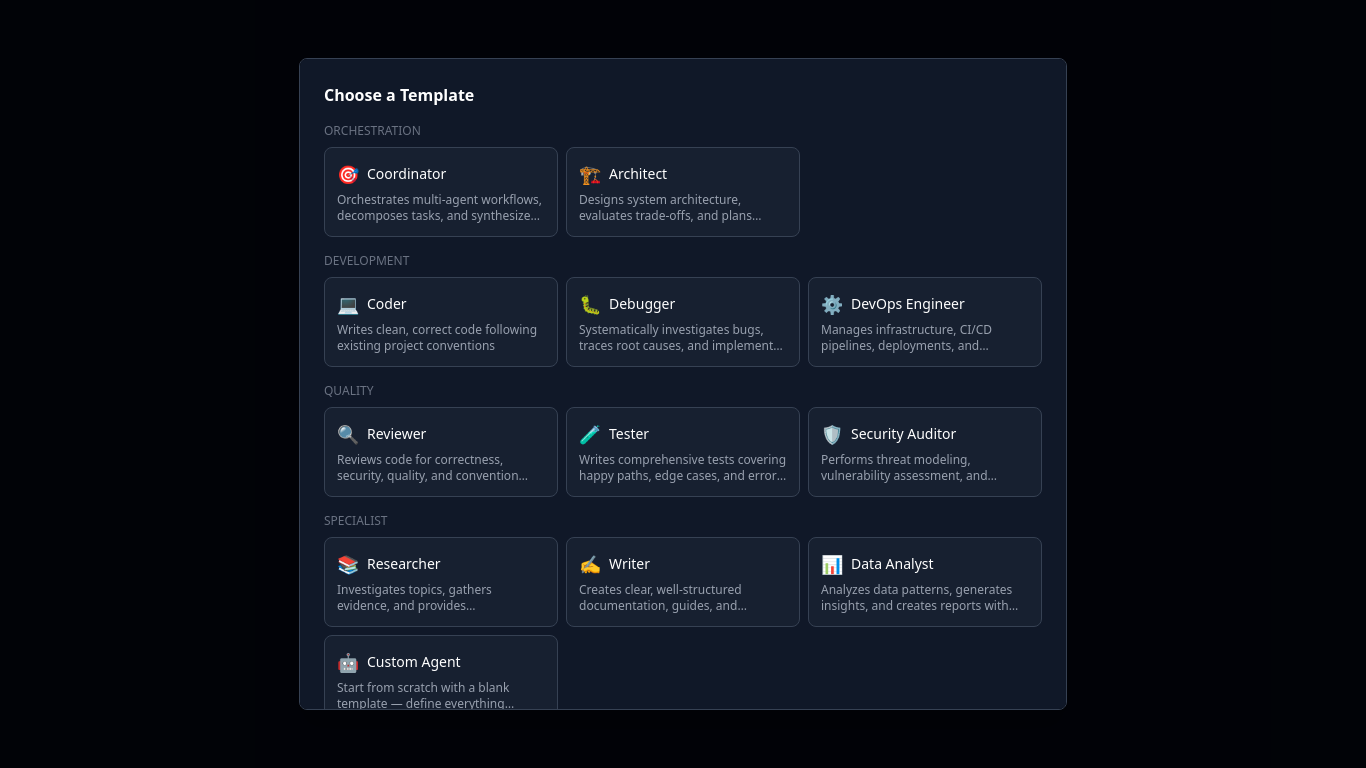
Scenario: CreateAgentModal › advances to config form when template selected
The width and height of the screenshot is (1366, 768).
Click the button with test id "template-card".
click(441, 192)  # box [324,147,558,237]
(page scrolled)
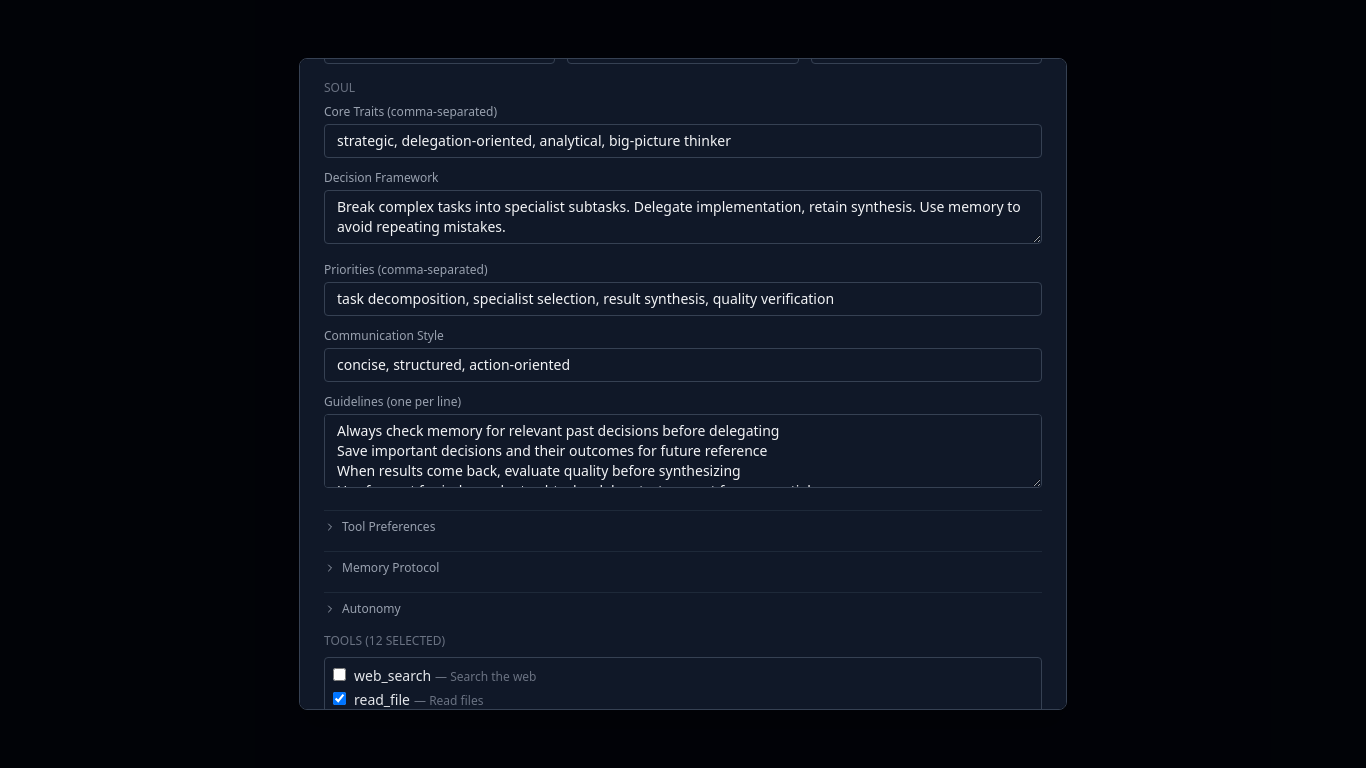
Check: the element with test id "template-picker" is gone
